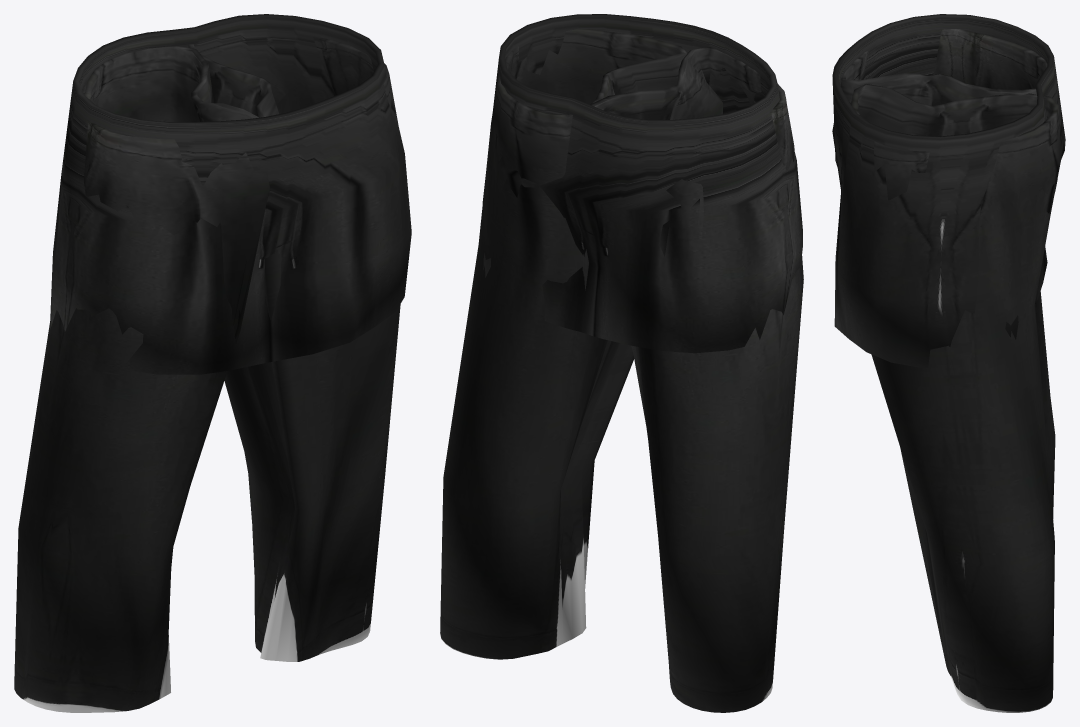
File: ec085a29-ec42-410a-bfe3-7ccba8f22d2f.glb
The picture shows the model from 3 angles, left to right: view 1: azimuth 30°, elevation 25°; view 2: azimuth 150°, elevation 25°; view 3: azimuth 270°, elevation 25°; orthographic projection. The views are drawn at different scales.
Visible parts, largest first — view 1: garment_leg0; view 2: garment_leg0; view 3: garment_leg0.
Part boxes in pixels (left/top/right/bottom): garment_leg0: left=14, top=14, right=411, bottom=712; garment_leg0: left=440, top=14, right=803, bottom=712; garment_leg0: left=832, top=14, right=1065, bottom=712.
Size of the model in its own units: 0.4492 by 0.7726 by 0.2885.
1 material, 1 textured.
